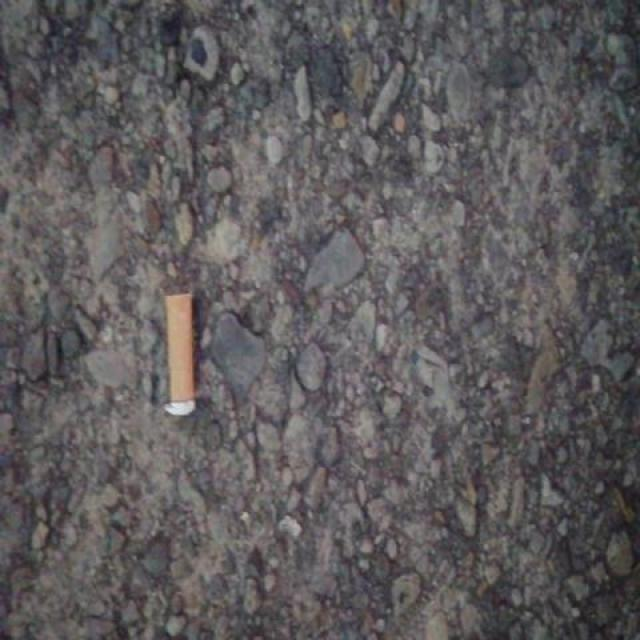non-organic waste: (161, 290, 199, 418)
